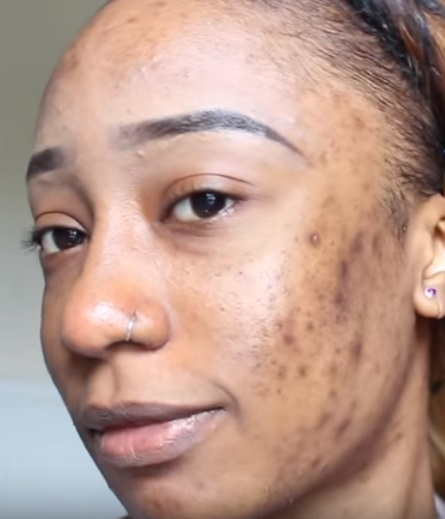bekas: (331, 416, 353, 443), (349, 332, 364, 365), (311, 410, 329, 432), (304, 228, 322, 249), (337, 256, 351, 283), (350, 231, 366, 254), (369, 229, 385, 252), (366, 360, 385, 378), (349, 112, 366, 132), (332, 309, 351, 326), (328, 86, 344, 106), (322, 362, 339, 380), (313, 149, 331, 166), (280, 331, 298, 347), (258, 320, 271, 342), (331, 289, 346, 308), (294, 361, 310, 378), (308, 452, 323, 469), (66, 54, 81, 71), (274, 362, 288, 380), (272, 382, 288, 397), (308, 344, 325, 358), (280, 283, 295, 298), (313, 212, 328, 227), (321, 191, 337, 205), (192, 477, 206, 493), (347, 157, 361, 173), (292, 424, 309, 437), (125, 12, 140, 26), (393, 429, 407, 444), (274, 266, 289, 280), (315, 290, 329, 304), (374, 251, 387, 266), (331, 344, 344, 359), (346, 397, 359, 412), (283, 454, 299, 466), (272, 318, 286, 331), (388, 417, 401, 431), (355, 311, 367, 326), (252, 358, 264, 373), (317, 315, 331, 327), (301, 271, 315, 283), (317, 256, 331, 268), (326, 386, 339, 398), (255, 383, 268, 395), (367, 275, 378, 289), (235, 267, 249, 278), (359, 265, 368, 281), (337, 227, 348, 240), (304, 321, 317, 332), (303, 306, 314, 318), (169, 499, 181, 510), (398, 293, 409, 304), (151, 498, 164, 507), (359, 181, 370, 191), (178, 9, 189, 19), (359, 296, 368, 308), (59, 121, 69, 131), (153, 1, 165, 9), (287, 317, 296, 327), (269, 354, 278, 364), (248, 342, 257, 352), (218, 304, 228, 312)
jerawat: (360, 206, 381, 222), (134, 145, 150, 160), (105, 65, 123, 78), (271, 473, 287, 486), (36, 175, 53, 187), (393, 349, 403, 369), (374, 308, 388, 322), (327, 136, 341, 150), (182, 67, 196, 80), (392, 326, 401, 343), (113, 80, 125, 92), (291, 114, 301, 128), (147, 53, 159, 64), (135, 64, 147, 73), (106, 49, 117, 58), (122, 43, 131, 51), (130, 73, 139, 79)
